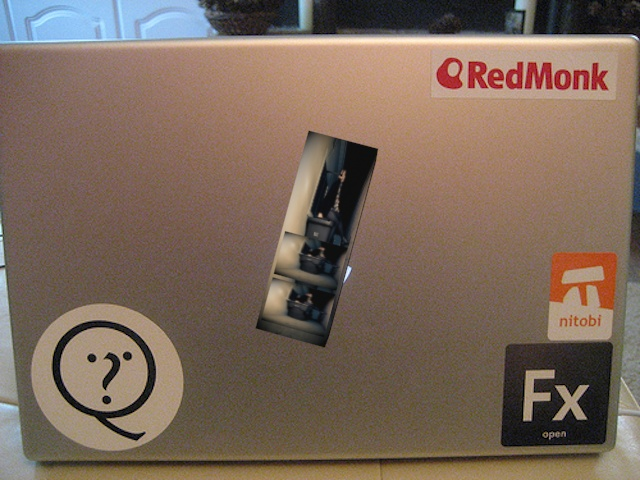file_cabinet: (249, 129, 384, 352)
